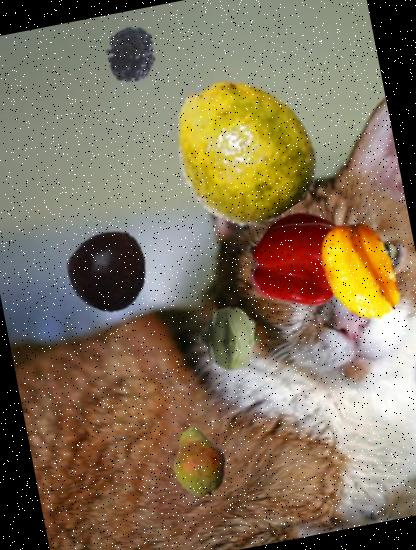Carambula: (301, 208, 416, 330)
Chestnut: (59, 220, 156, 317)
Guava: (155, 62, 331, 238)
Kohlrabi: (192, 299, 270, 378)
Mulberry: (100, 16, 179, 95)
Pear: (153, 412, 243, 502)
Pepper: (240, 199, 362, 321)
